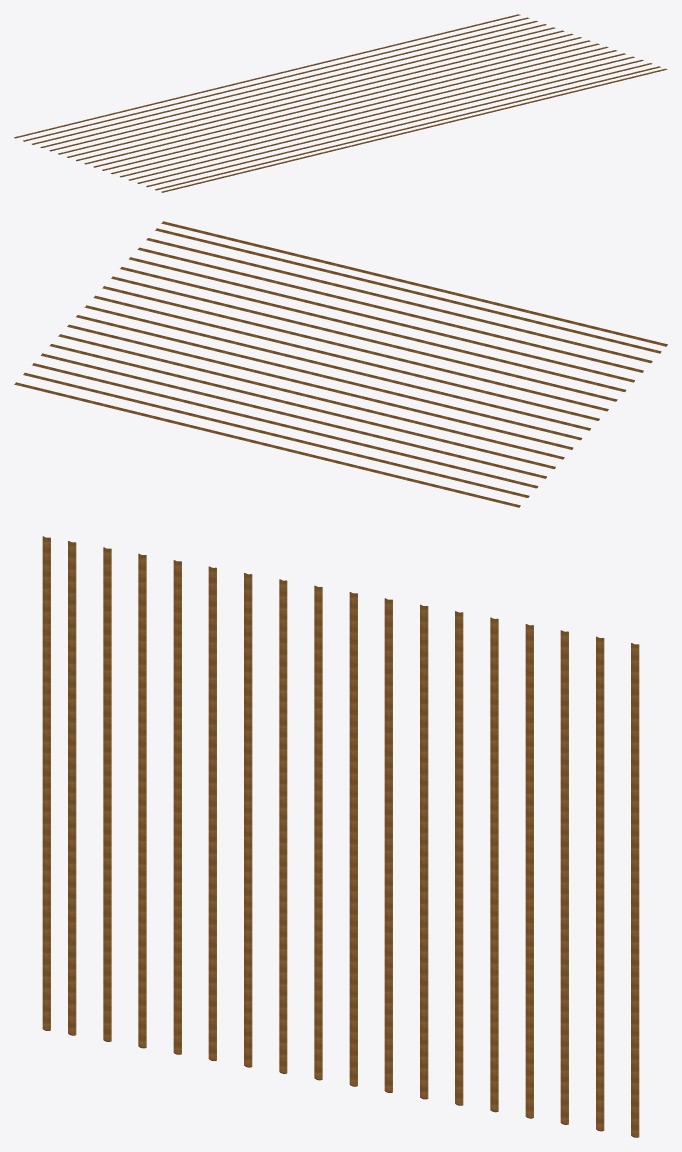
The model's file is 09 LATILLAS CERCHAS.glb.
The picture shows the model from 3 angles, top to bottom: view 1: azimuth 30°, elevation 25°; view 2: azimuth 150°, elevation 25°; view 3: azimuth 270°, elevation 25°; orthographic projection. The views are drawn at different scales.
Parts seen in each view (by area): view 1: 149514, 149510, 149515, 149512, 149517, 149518, 149504, 149506, 149509, 149511, 149503, 149505 (+6 smaller); view 2: 149504, 149505, 149510, 149513, 149508, 149507, 149514, 149506, 149509, 149502, 149511, 149515 (+6 smaller); view 3: 149508, 149515, 149516, 149507, 149502, 149511, 149513, 149518, 149519, 149504, 149506, 149509 (+6 smaller).
Boxes of the visible parts, x1=… form: 149514: x1=23, y1=17, x2=529, y2=141; 149510: x1=58, y1=30, x2=564, y2=154; 149515: x1=137, y1=59, x2=643, y2=183; 149512: x1=40, y1=24, x2=546, y2=147; 149517: x1=155, y1=66, x2=660, y2=190; 149518: x1=161, y1=68, x2=667, y2=192; 149504: x1=111, y1=50, x2=617, y2=174; 149506: x1=93, y1=43, x2=599, y2=167; 149509: x1=67, y1=33, x2=573, y2=157; 149511: x1=49, y1=27, x2=555, y2=151; 149503: x1=120, y1=53, x2=625, y2=177; 149505: x1=102, y1=46, x2=608, y2=170; 149504: x1=111, y1=276, x2=617, y2=401; 149505: x1=102, y1=286, x2=608, y2=411; 149510: x1=58, y1=334, x2=564, y2=459; 149513: x1=32, y1=363, x2=538, y2=488; 149508: x1=76, y1=315, x2=582, y2=440; 149507: x1=84, y1=305, x2=590, y2=430; 149514: x1=23, y1=372, x2=529, y2=497; 149506: x1=93, y1=295, x2=599, y2=420; 149509: x1=67, y1=324, x2=573, y2=449; 149502: x1=129, y1=257, x2=634, y2=382; 149511: x1=49, y1=344, x2=555, y2=468; 149515: x1=137, y1=247, x2=643, y2=372; 149508: x1=384, y1=598, x2=392, y2=1092; 149515: x1=138, y1=553, x2=146, y2=1048; 149516: x1=103, y1=547, x2=111, y2=1041; 149507: x1=349, y1=592, x2=357, y2=1086; 149502: x1=173, y1=560, x2=181, y2=1054; 149511: x1=490, y1=617, x2=498, y2=1112; 149513: x1=560, y1=630, x2=568, y2=1124; 149518: x1=42, y1=536, x2=50, y2=1030; 149519: x1=631, y1=643, x2=639, y2=1137; 149504: x1=244, y1=573, x2=252, y2=1067; 149506: x1=314, y1=585, x2=322, y2=1080; 149509: x1=420, y1=604, x2=428, y2=1099.
Size of the model in its own units: 8.25 by 0.8497 by 4.22.
Materials: 468 (468 with a texture image).
